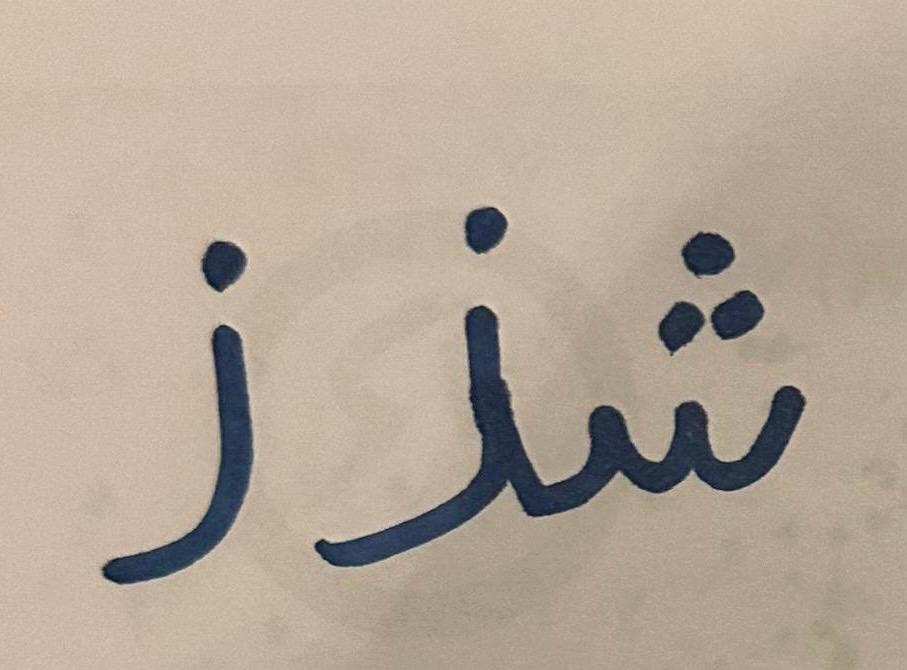ain: (35, 132, 297, 607), (301, 170, 543, 605)
tah: (547, 186, 843, 577)
